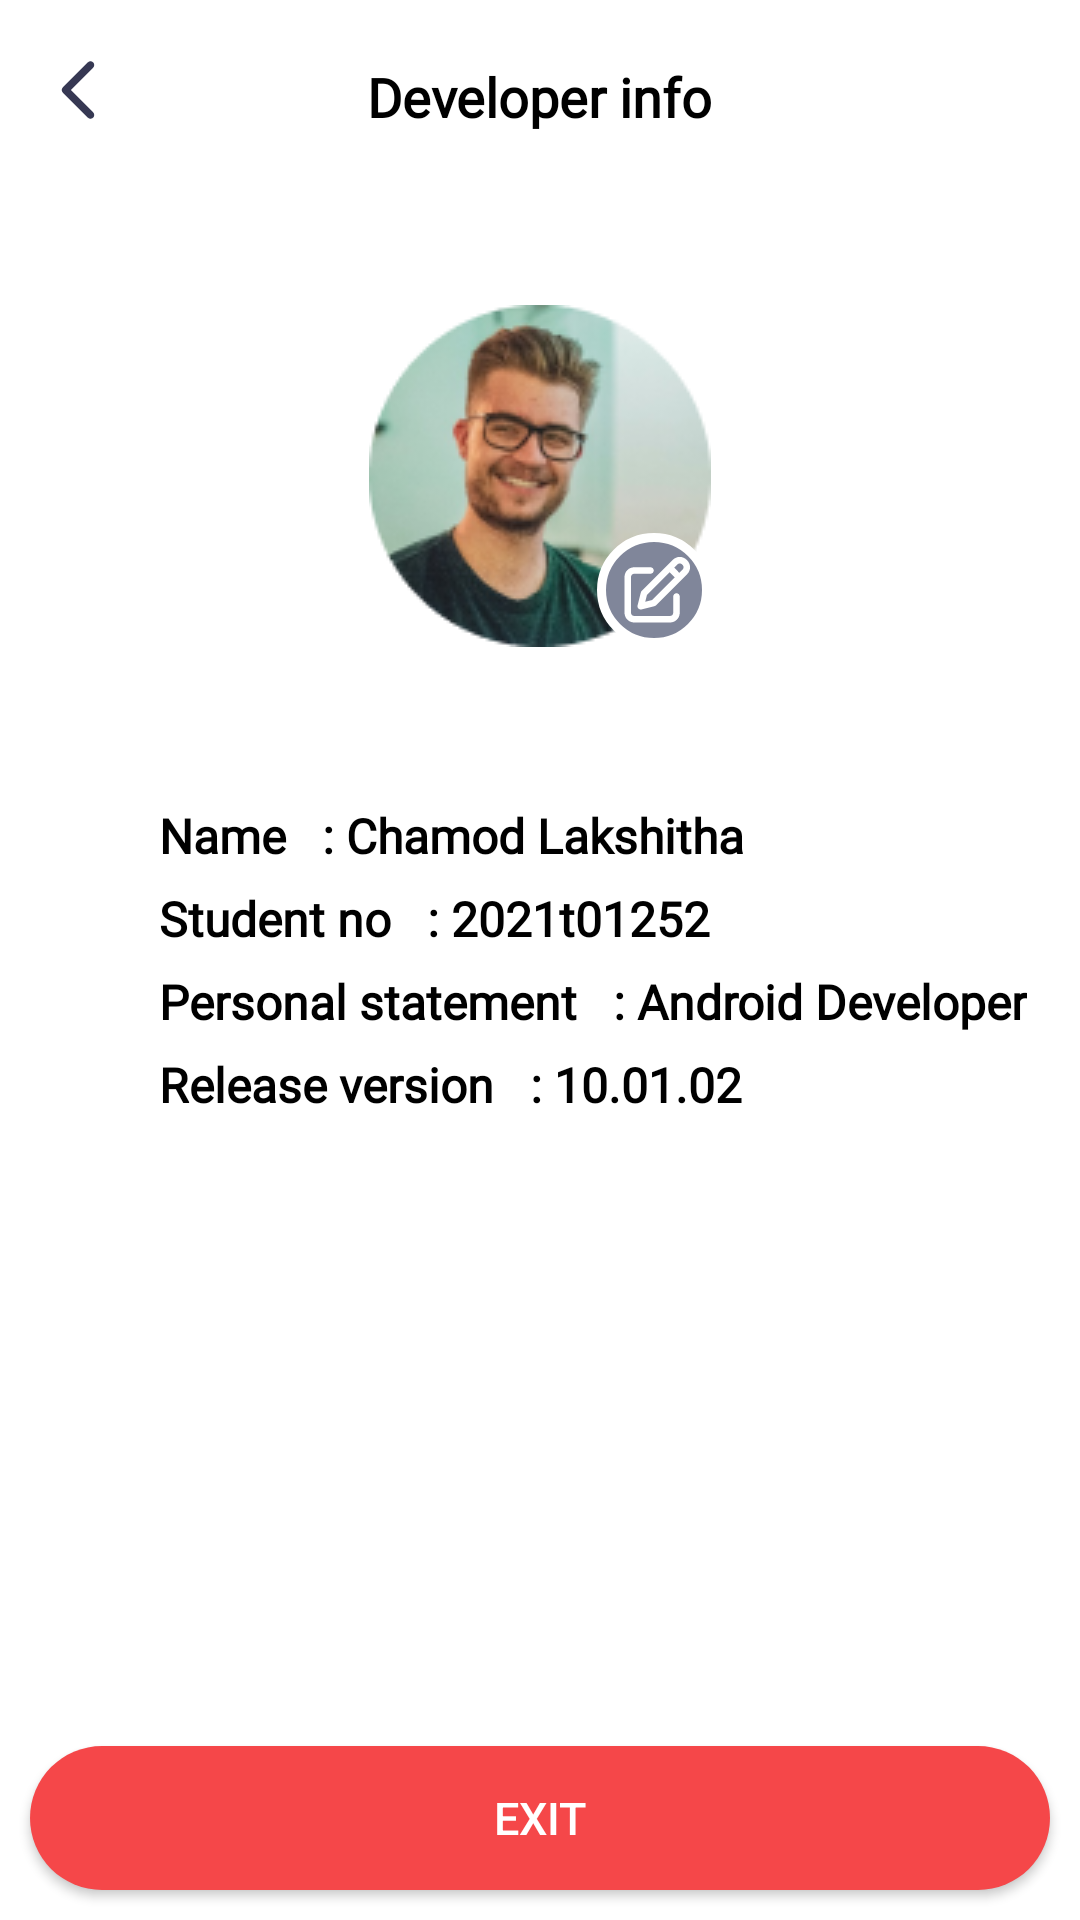

Icons on this 1080*1920 Android screen, each with the point to tap as (x,y):
back: (78,90)
